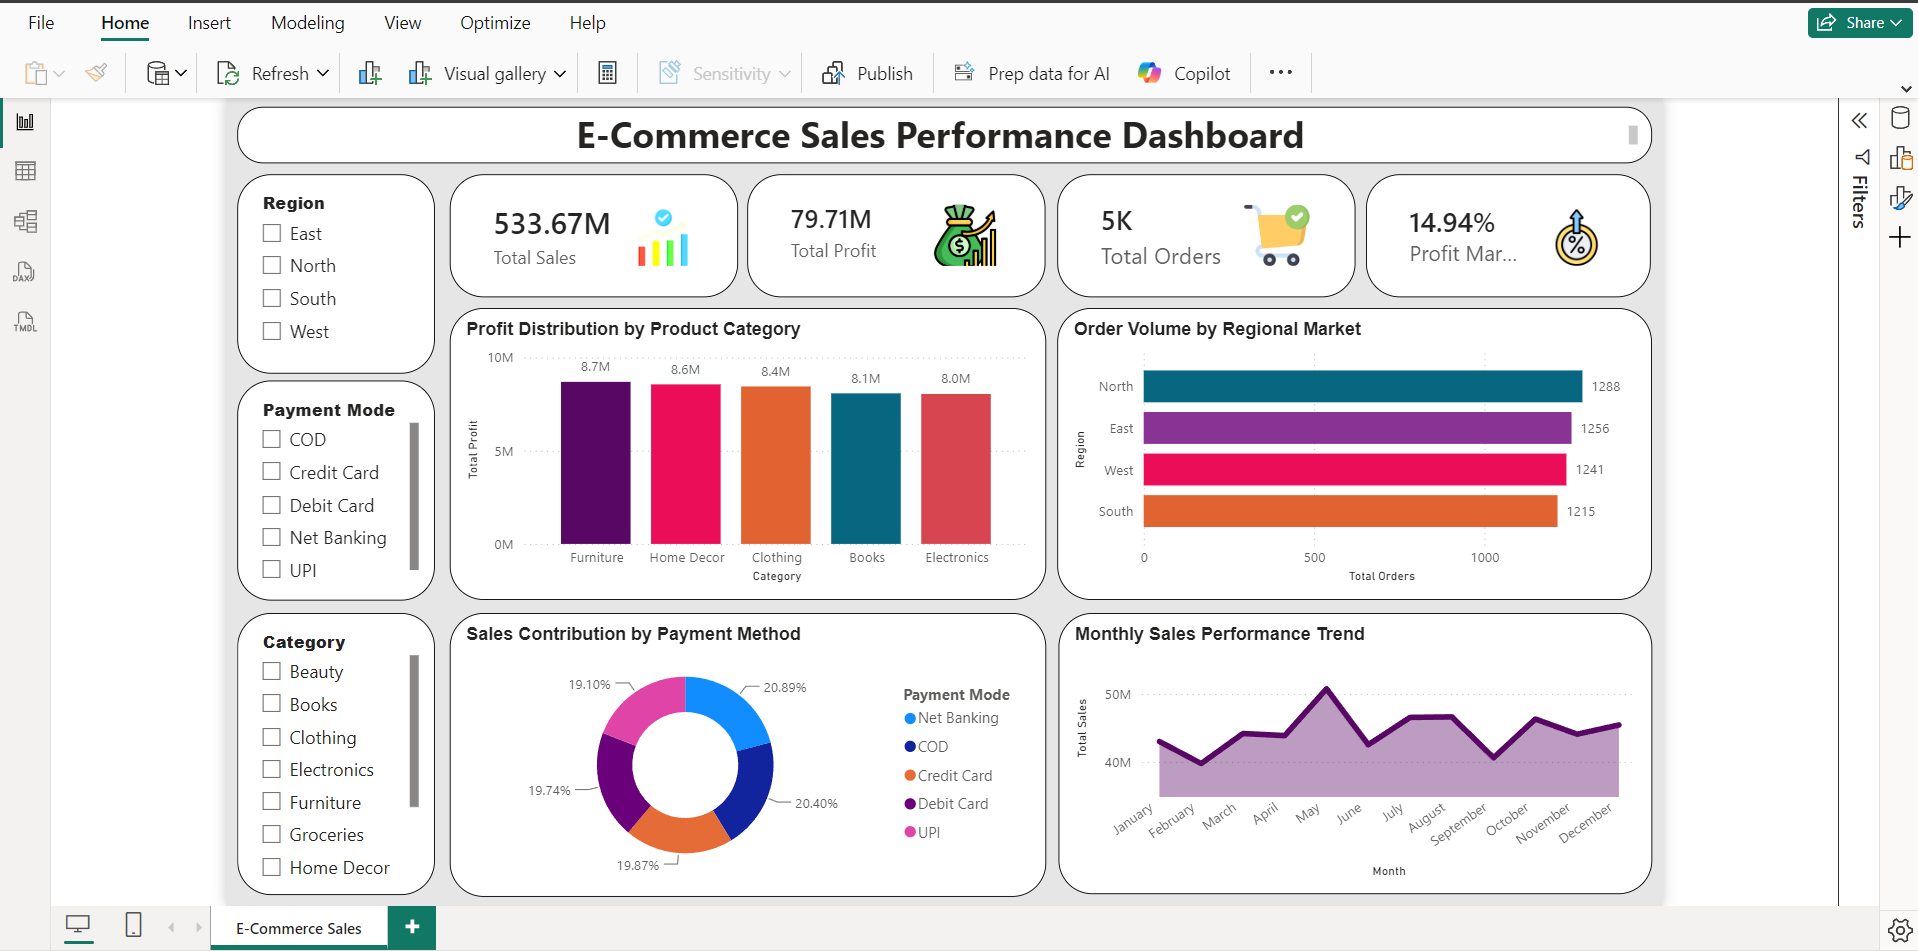

This screenshot's page, from the dashboard's own definition file:
{"tool":"powerbi","page":{"name":"E-Commerce Sales","canvas":[1280,720],"ordinal":0},"visuals":[{"type":"cardVisual","fields":{"Data":["Table.Total Sales"]},"box":[199.1,67.8,256.8,109.6],"z":0},{"type":"cardVisual","fields":{"Data":["Table.Total Profit"]},"box":[464.6,67.8,265.5,109.6],"z":1000},{"type":"cardVisual","fields":{"Data":["Table.Total Orders"]},"box":[740.1,67.8,265.5,109.6],"z":2000},{"type":"cardVisual","fields":{"Data":["Table.Profit Margin %"]},"box":[1015.7,67.8,253.9,109.6],"z":3000},{"type":"columnChart","title":"Profit Distribution by Product Category","fields":{"Category":["Ecommerce_Sales_Data_2024_2025.Category"],"Y":["Table.Total Profit"]},"box":[199.1,187.6,530.9,259.7],"z":4000},{"type":"barChart","title":"Order Volume by Regional Market","fields":{"Category":["Ecommerce_Sales_Data_2024_2025.Region"],"Y":["Table.Total Orders"]},"box":[740.1,187.6,529.5,259.7],"z":5000},{"type":"donutChart","title":"Sales Contribution by Payment Method","fields":{"Category":["Ecommerce_Sales_Data_2024_2025.Payment Mode"],"Y":["Sum(Ecommerce_Sales_Data_2024_2025.Sales)"]},"box":[199.3,458.6,531,252.7],"z":6000},{"type":"lineChart","title":"Monthly Sales Performance Trend","fields":{"Category":["Ecommerce_Sales_Data_2024_2025.Order Date.Variation.Date Hierarchy.Month"],"Y":["Table.Total Sales"]},"box":[741.4,458.6,528.8,250.5],"z":7000},{"type":"slicer","fields":{"Values":["Ecommerce_Sales_Data_2024_2025.Region"]},"box":[10.1,67.8,176,177.5],"z":8000},{"type":"slicer","fields":{"Values":["Ecommerce_Sales_Data_2024_2025.Category"]},"box":[10.1,458.8,176,251],"z":9000},{"type":"slicer","fields":{"Values":["Ecommerce_Sales_Data_2024_2025.Payment Mode"]},"box":[10.1,251,176,196.2],"z":10000},{"type":"textbox","box":[10,7.8,1260.1,50.1],"z":11000}]}

Visuals, with their boxes on the page's 1280x720 design canvas (x1, y1, x2, y2). These are canvas units, not pixel positions in the 1918x951 screenshot, which may show the page scaled, cropped or inside an application window:
cardVisual - Table.Total Sales: [199,68,456,177]
cardVisual - Table.Total Profit: [465,68,730,177]
cardVisual - Table.Total Orders: [740,68,1006,177]
cardVisual - Table.Profit Margin %: [1016,68,1270,177]
"Profit Distribution by Product Category" columnChart: [199,188,730,447]
"Order Volume by Regional Market" barChart: [740,188,1270,447]
"Sales Contribution by Payment Method" donutChart: [199,459,730,711]
"Monthly Sales Performance Trend" lineChart: [741,459,1270,709]
slicer - Ecommerce_Sales_Data_2024_2025.Region: [10,68,186,245]
slicer - Ecommerce_Sales_Data_2024_2025.Category: [10,459,186,710]
slicer - Ecommerce_Sales_Data_2024_2025.Payment Mode: [10,251,186,447]
textbox: [10,8,1270,58]
